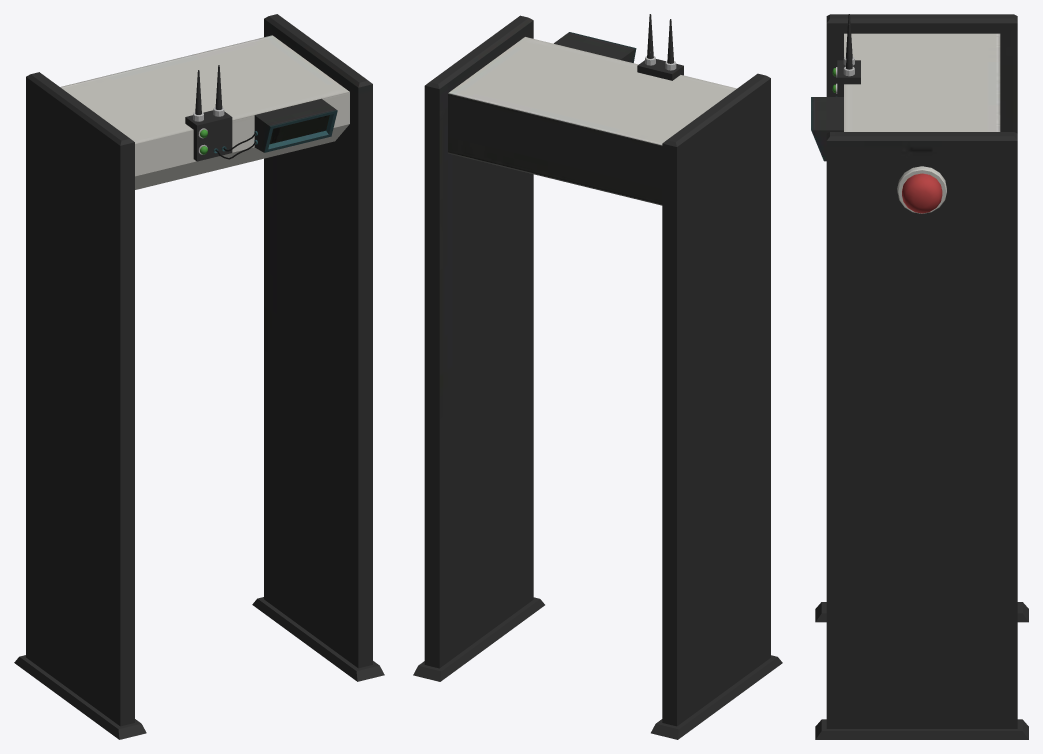
File: metal_detector_entrance.glb
The picture shows the model from 3 angles, left to right: view 1: azimuth 30°, elevation 25°; view 2: azimuth 150°, elevation 25°; view 3: azimuth 270°, elevation 25°; orthographic projection.
Parts seen in each view (by area): view 1: Object_2; view 2: Object_2; view 3: Object_2.
Part boxes in pixels (x1,y1,x2,y2): Object_2: (14,14,384,739); Object_2: (413,14,782,739); Object_2: (811,14,1028,739).
Size of the model in its own units: 26.45 by 57.08 by 17.55.
1 material, 1 textured.
